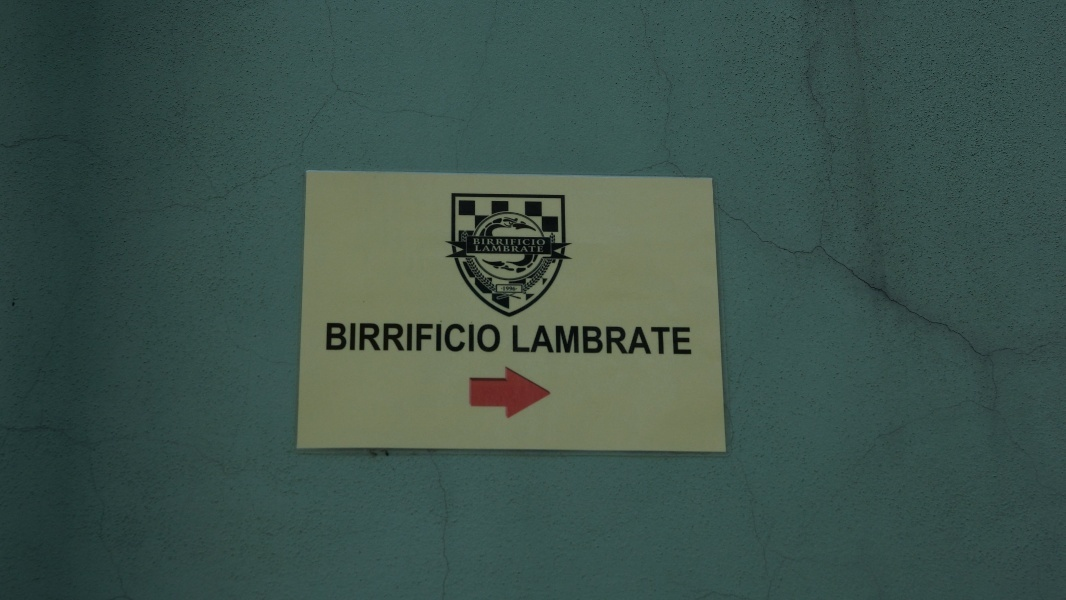text: (513, 325, 528, 355), (529, 325, 544, 355), (545, 325, 560, 355), (561, 325, 576, 355), (577, 325, 592, 355), (593, 325, 608, 355), (609, 325, 624, 355), (625, 325, 640, 355), (641, 325, 656, 355), (657, 325, 672, 355), (673, 325, 688, 355), (337, 323, 352, 352), (353, 323, 368, 352), (369, 323, 384, 352), (385, 323, 400, 352), (401, 323, 416, 352), (417, 323, 432, 352), (433, 323, 448, 352), (449, 323, 464, 352), (465, 323, 480, 352), (481, 323, 496, 352), (327, 323, 336, 352), (497, 323, 501, 352), (481, 239, 496, 246), (497, 239, 512, 246), (513, 239, 528, 246), (529, 239, 544, 246), (481, 246, 496, 253), (497, 246, 512, 253), (513, 246, 528, 253), (529, 246, 544, 253), (689, 325, 692, 355), (473, 239, 480, 246), (503, 287, 512, 292), (475, 246, 480, 253), (513, 287, 516, 292), (545, 239, 546, 246)
